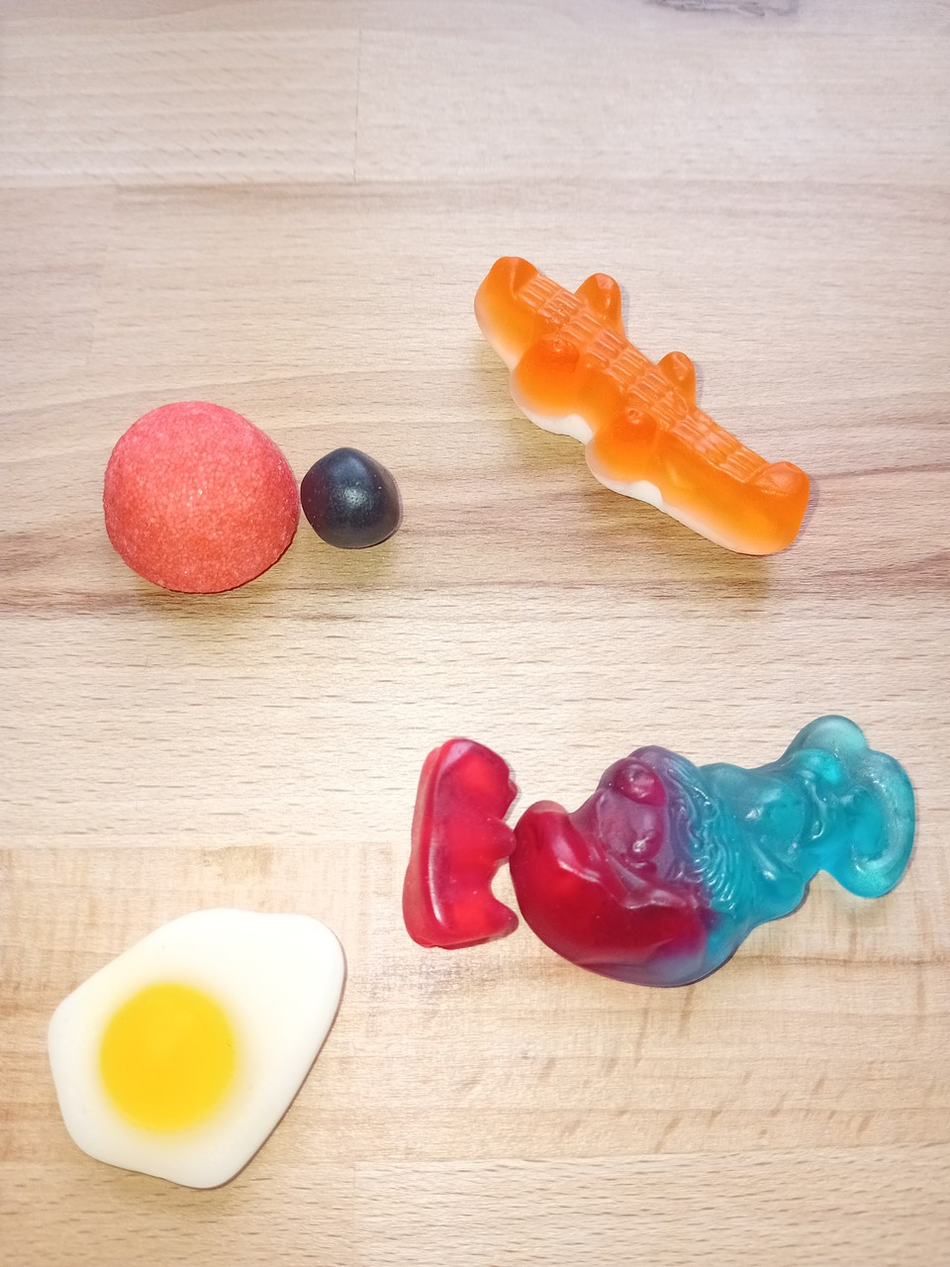crocodile_orange: (464, 250, 817, 563)
dragibus_noir: (297, 437, 405, 567)
oeuf_oeuf: (40, 894, 356, 1208)
ourson_rouge: (398, 729, 520, 974)
schtroumpf_bleu-rouge: (509, 704, 918, 993)
tagada_fraise: (95, 389, 300, 601)
